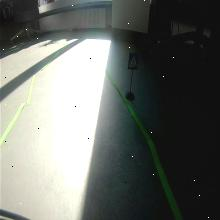crosswalk: (128, 52, 139, 70)
